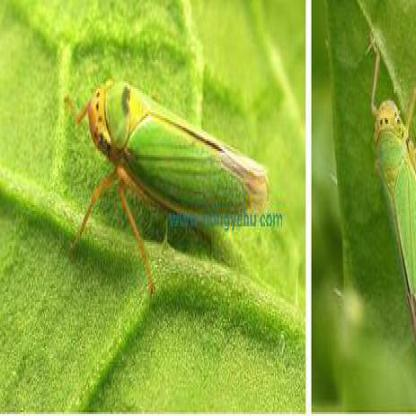Green-Leafhopper: (63, 72, 272, 287), (364, 35, 416, 369)
